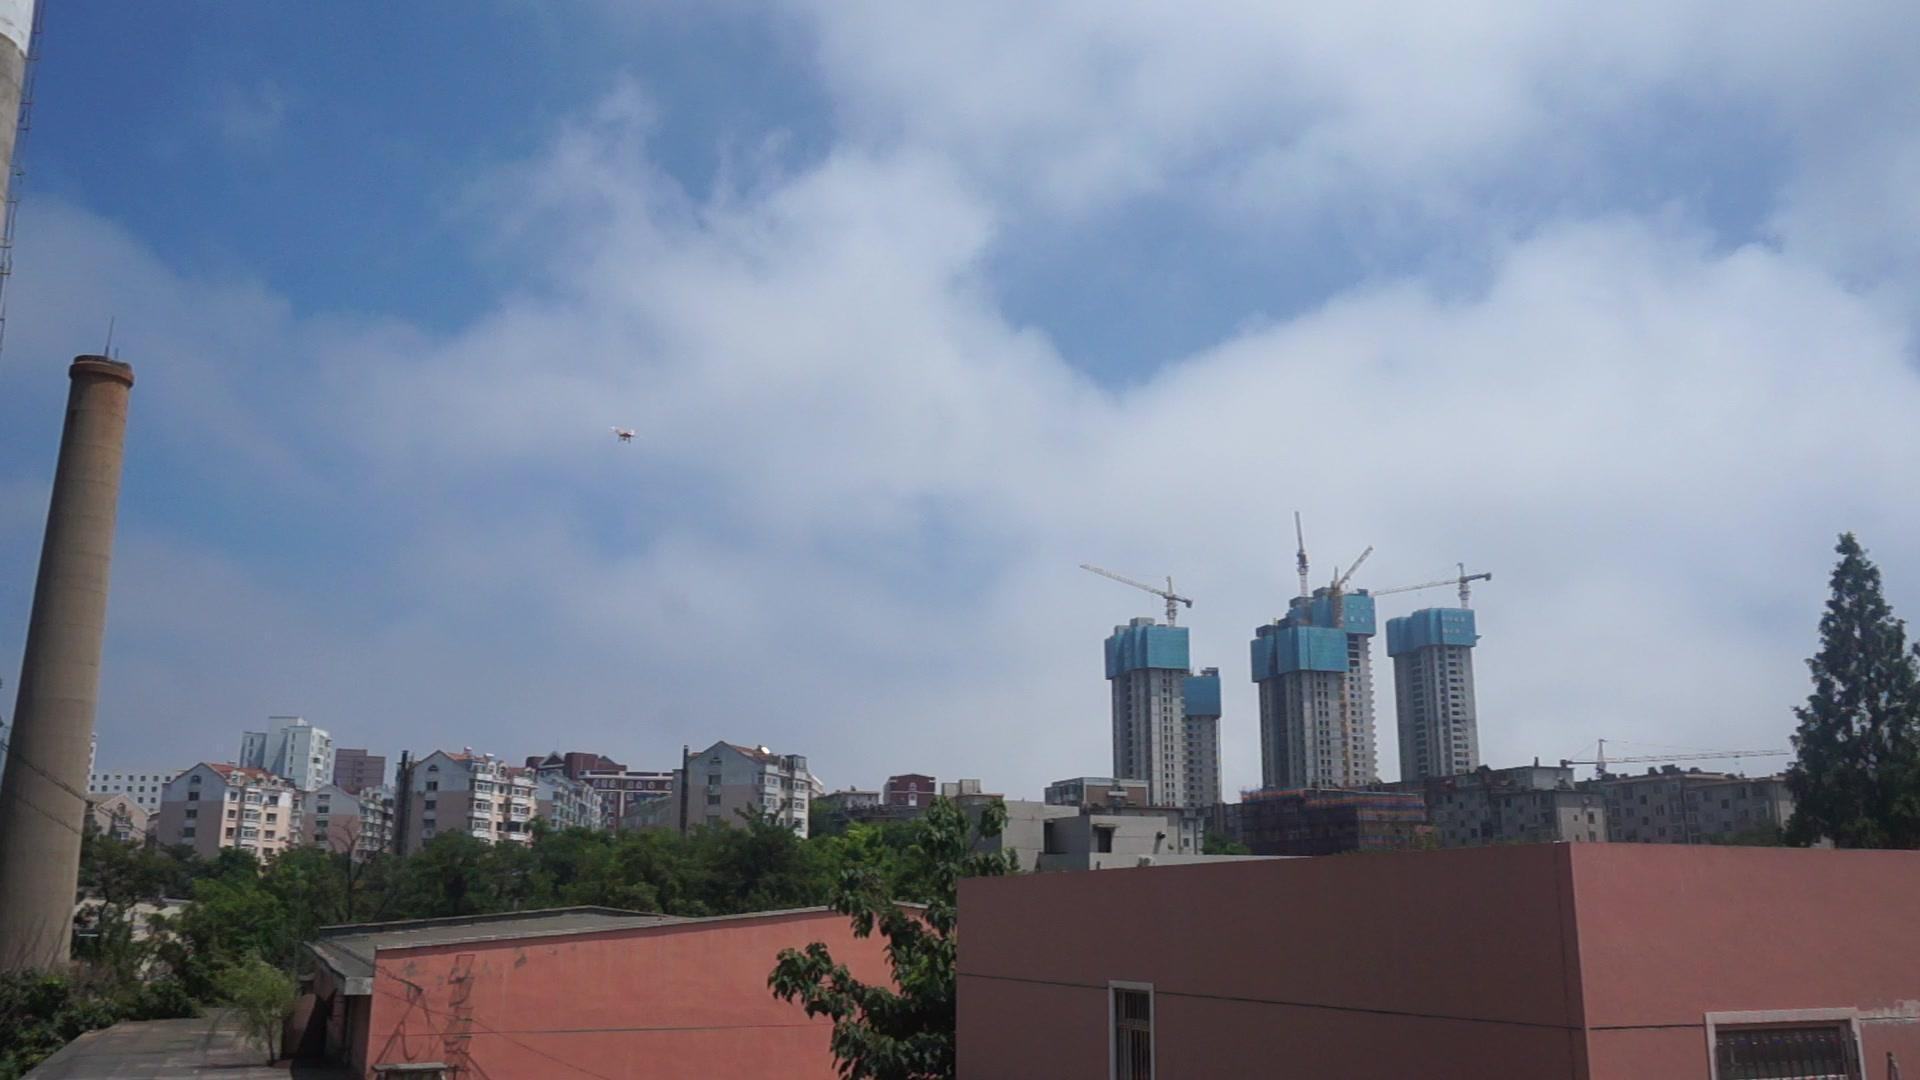UAV: (608, 426, 644, 444)
